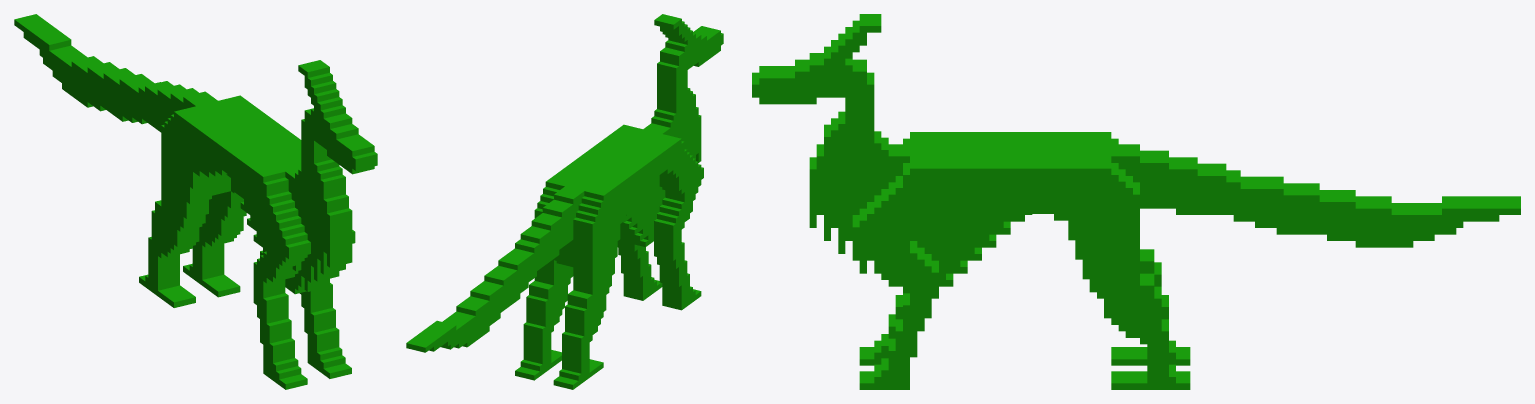
Rendered from Earth_Immortal.gltf.
3 views of the same model, side by side, from view 1: azimuth 30°, elevation 25°; view 2: azimuth 150°, elevation 25°; view 3: azimuth 270°, elevation 25° (orthographic). The views are drawn at different scales.
Visible parts, largest first — view 1: Earth_Immortal-Mesh; view 2: Earth_Immortal-Mesh; view 3: Earth_Immortal-Mesh.
Part boxes in pixels (bbox=[...]): Earth_Immortal-Mesh: bbox=[14, 14, 377, 389]; Earth_Immortal-Mesh: bbox=[406, 14, 723, 389]; Earth_Immortal-Mesh: bbox=[752, 14, 1520, 389].
Size of the model in its own units: 12 by 54 by 107.
1 material, 1 textured.
